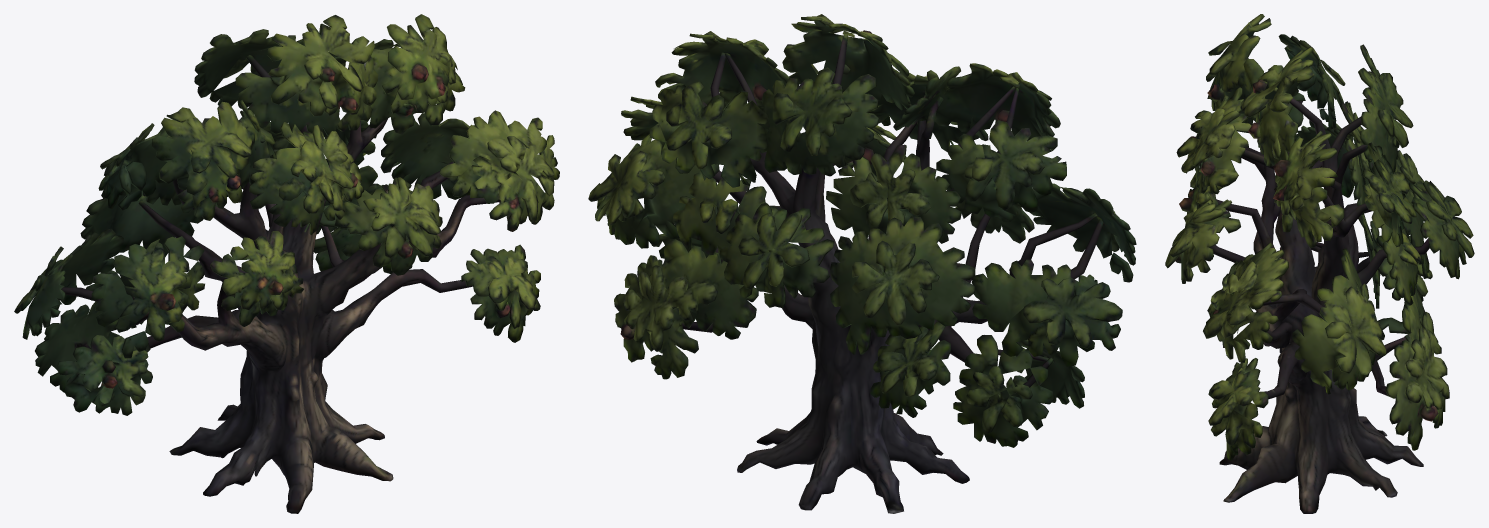
File: oak tree 3d model.glb
3 renders of one model, left to right at view 1: azimuth 30°, elevation 25°; view 2: azimuth 150°, elevation 25°; view 3: azimuth 270°, elevation 25°, orthographic. The views are drawn at different scales.
Parts seen in each view (by area): view 1: tripo_node_2f067fd4-5180-4d3b-99bd-432c9e0621be; view 2: tripo_node_2f067fd4-5180-4d3b-99bd-432c9e0621be; view 3: tripo_node_2f067fd4-5180-4d3b-99bd-432c9e0621be.
Boxes of the visible parts, <box> form: tripo_node_2f067fd4-5180-4d3b-99bd-432c9e0621be: <box>14,14,559,513</box>; tripo_node_2f067fd4-5180-4d3b-99bd-432c9e0621be: <box>588,14,1136,513</box>; tripo_node_2f067fd4-5180-4d3b-99bd-432c9e0621be: <box>1165,14,1474,513</box>.
Bounding box in the file's own units: 0.9807 × 0.808 × 0.5239.
Materials: 1 (1 with a texture image).
